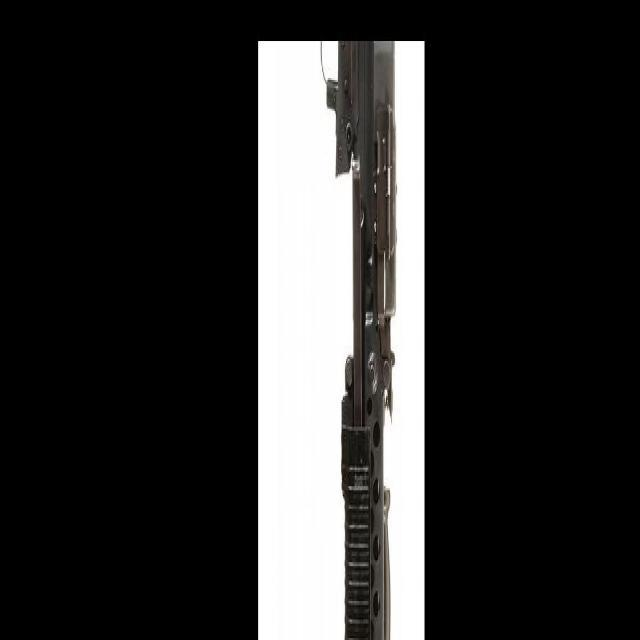weapon: (322, 35, 399, 640)
